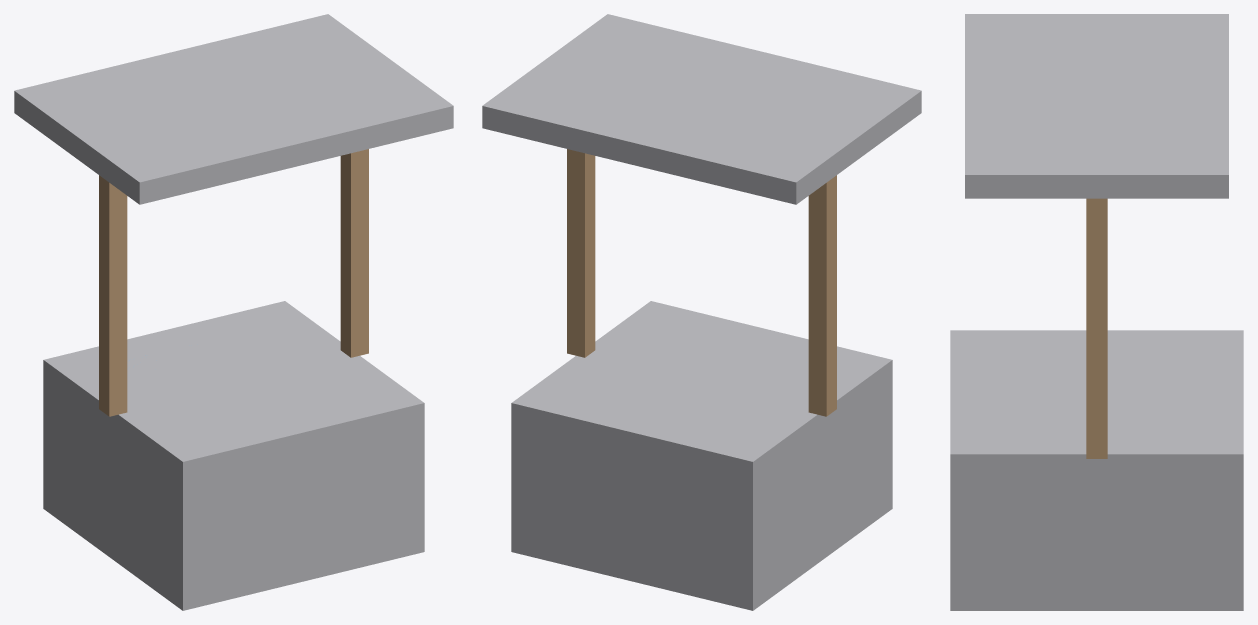
The model's file is Prop_Water_AMF_Well_V2.glb.
The picture shows the model from 3 angles, left to right: view 1: azimuth 30°, elevation 25°; view 2: azimuth 150°, elevation 25°; view 3: azimuth 270°, elevation 25°; orthographic projection. The views are drawn at different scales.
Parts seen in each view (by area): view 1: Prop_Water_AMF_Well_V2; view 2: Prop_Water_AMF_Well_V2; view 3: Prop_Water_AMF_Well_V2.
Boxes of the visible parts, box(x1,y1,x2,y2) form: Prop_Water_AMF_Well_V2: box(14, 14, 453, 610); Prop_Water_AMF_Well_V2: box(482, 14, 921, 610); Prop_Water_AMF_Well_V2: box(950, 14, 1243, 610).
Size of the model in its own units: 1.76 by 2.32 by 1.36.
